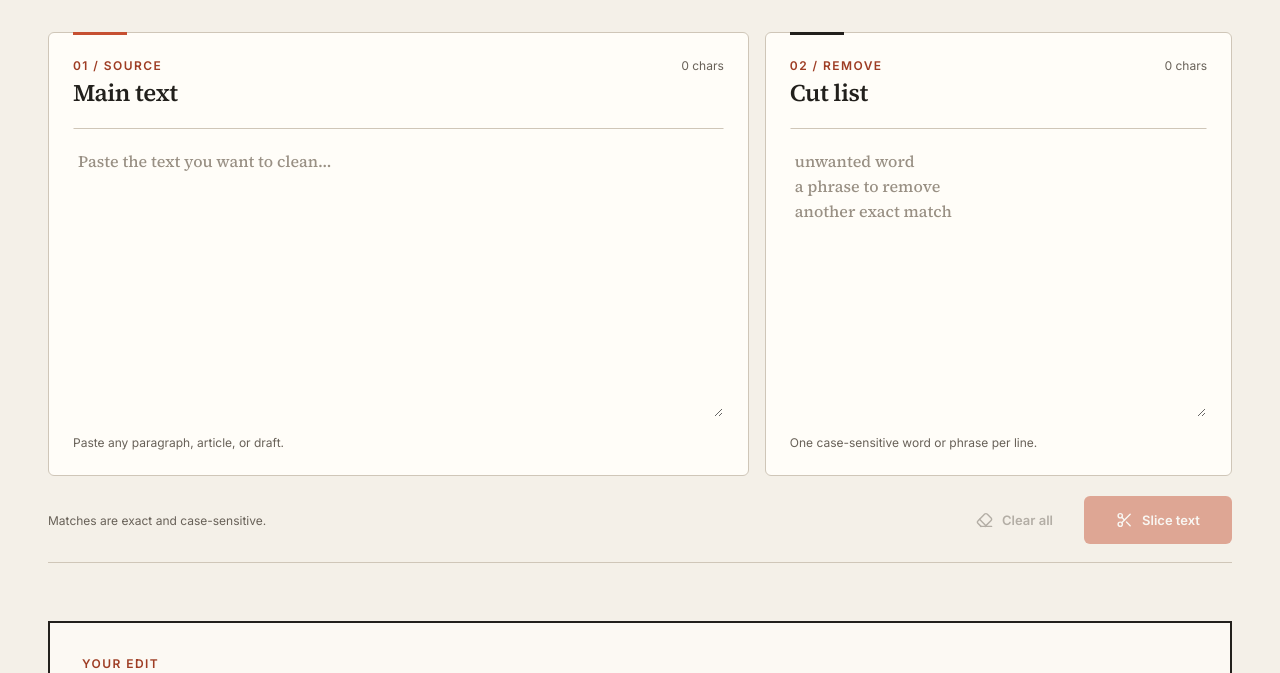
Test: Text Slicer app › copies the output and shows success feedback
(page scrolled)
Type "keep remove" into the text box named "Main text" at (398, 273), box [73,128,724,418]
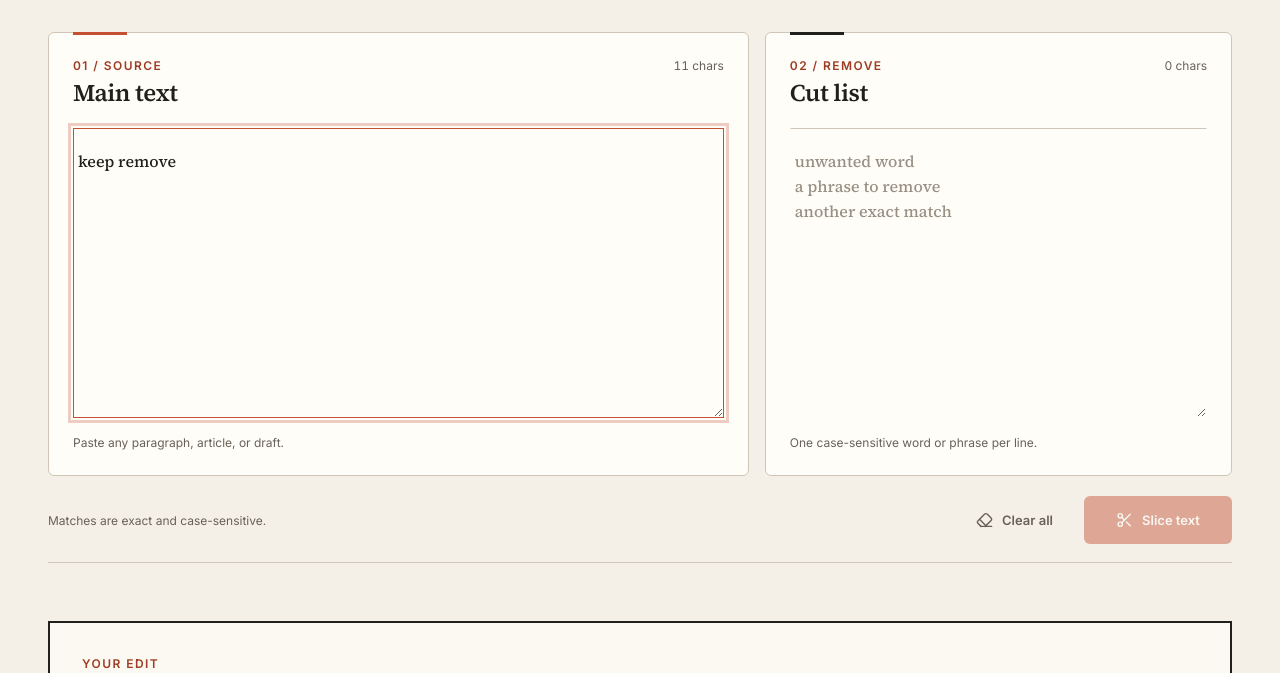
Type "remove" into the text box named "Cut list" at (998, 273), box [790,128,1207,418]
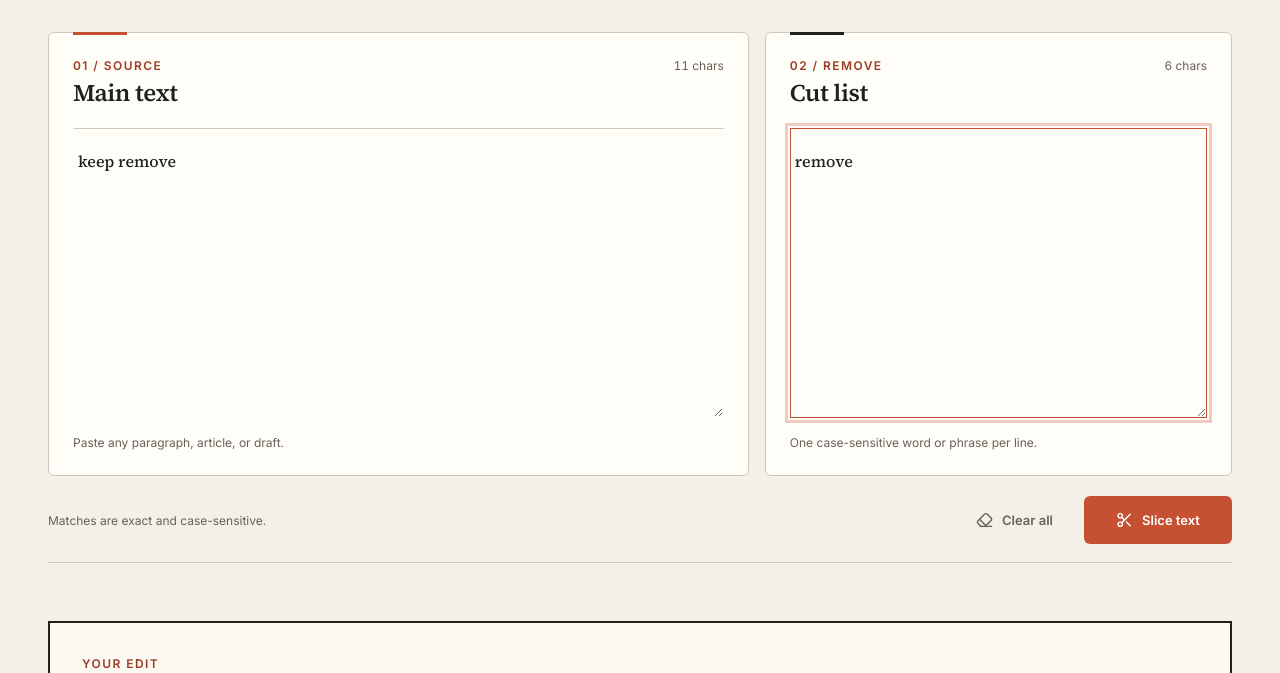
Click the button "Slice text" at (1158, 520), box [1084,496,1232,544]
(page scrolled)
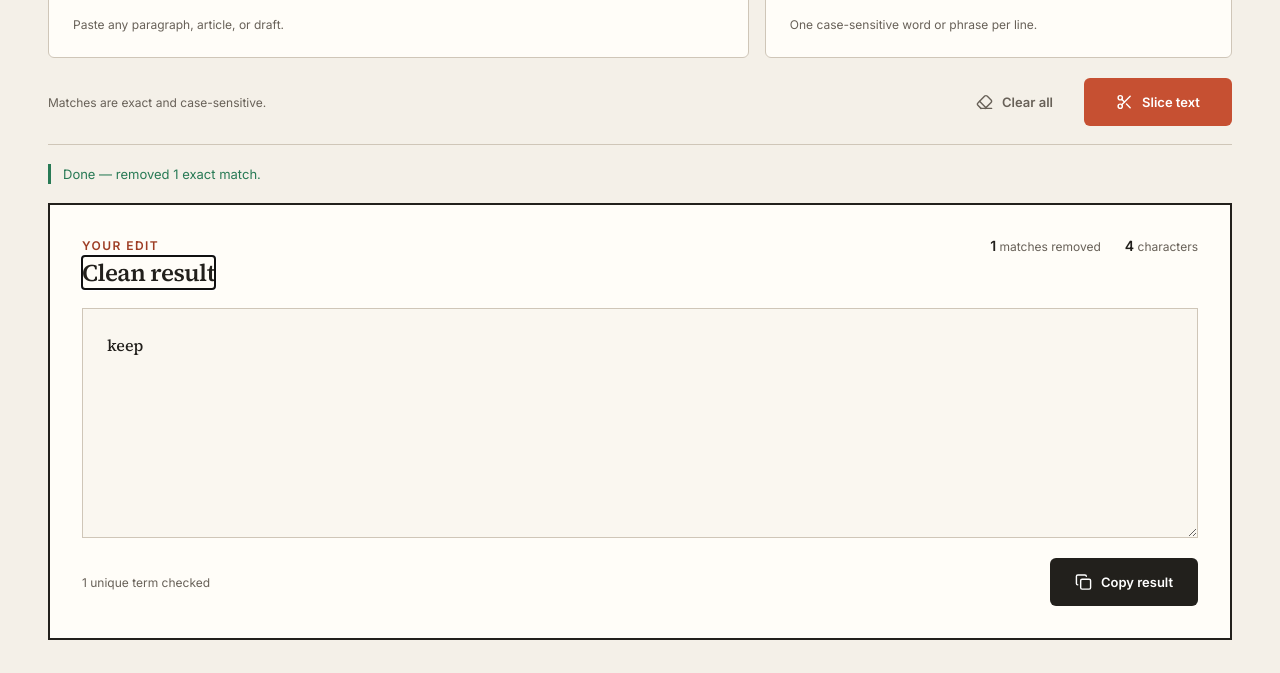
Click the button "Copy result" at (1124, 582), box [1050,558,1198,606]
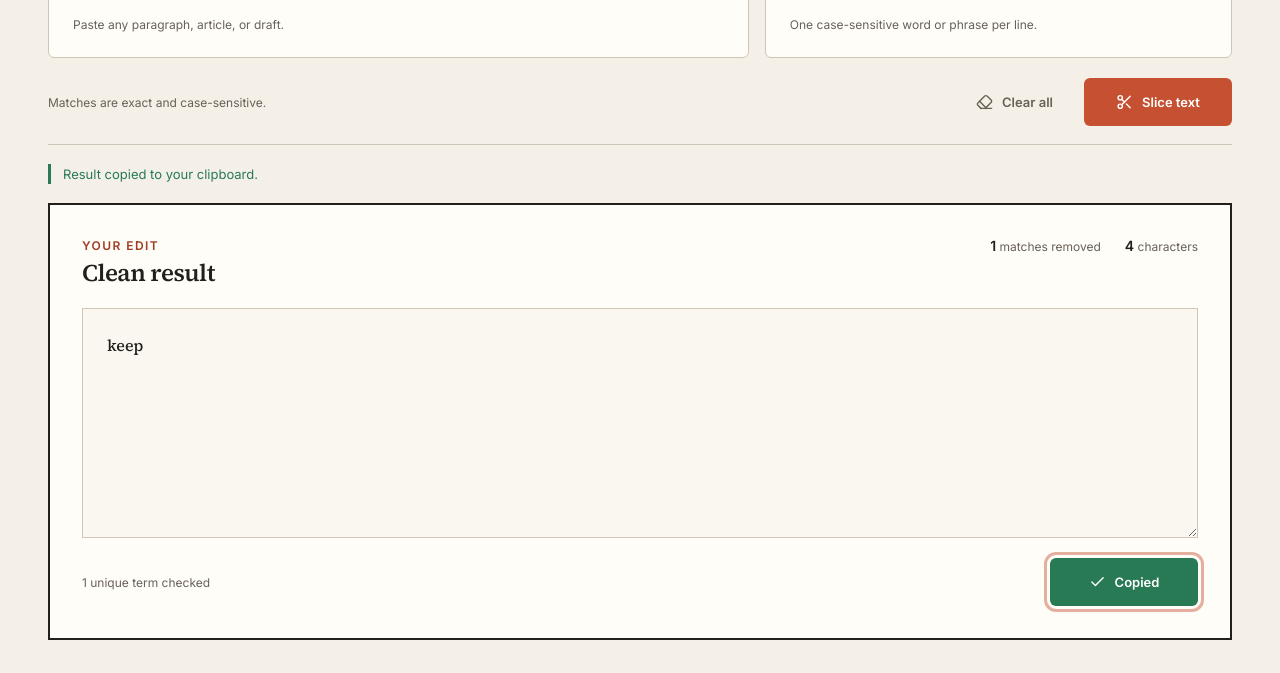
Expected: the button "Copied" is shown, [1050,558,1198,606]
